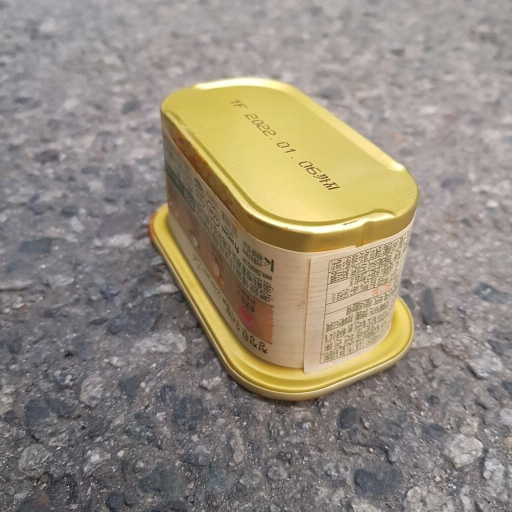Metal_2: (151, 75, 419, 401)
